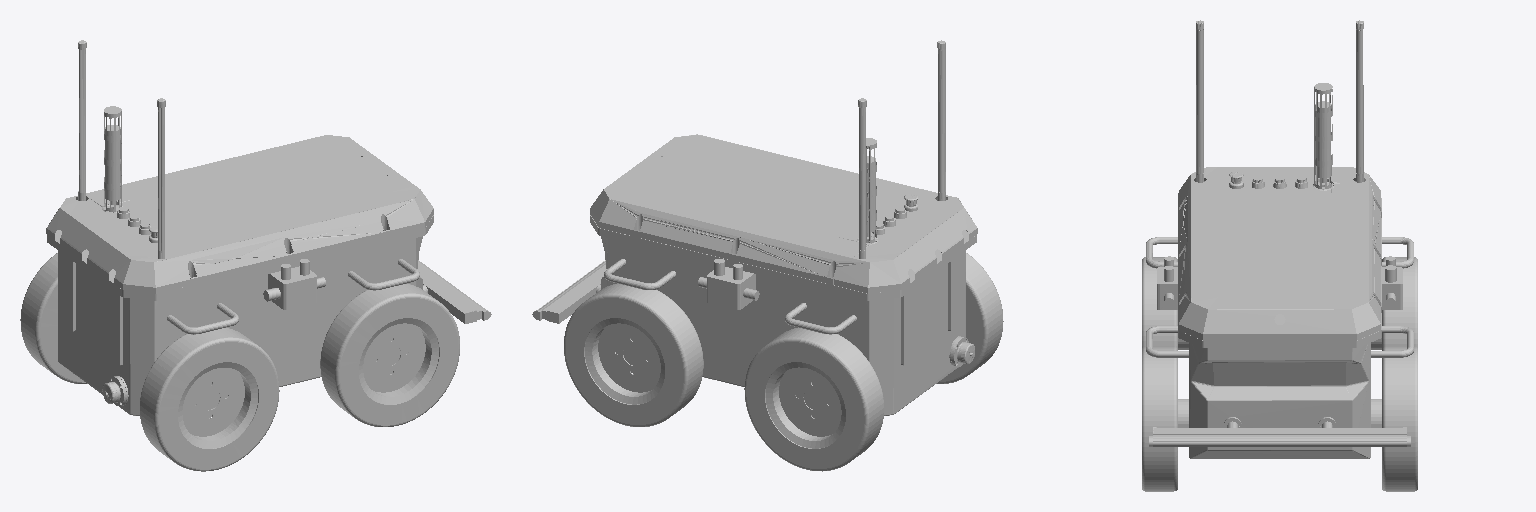
The robot description file, URDF, robot "yhs_chassis_description":
<robot name="yhs_chassis_description">
  <link name="base_link">
    <visual>
      <origin
        xyz="-0.6 -0.35 0"
        rpy="0 0 0" />
      <geometry>
        <mesh
          filename="package://yhs_chassis_description/meshes/FB-001.STL"/>
      </geometry>
      <material
        name="">
        <color
          rgba="0.8 0.8 0.8 1" />
      </material>
    </visual>
  </link>
</robot>

--- Render facts (derived) ---
The picture shows the robot from 3 angles, left to right: view 1: azimuth 30°, elevation 25°; view 2: azimuth 150°, elevation 25°; view 3: azimuth 270°, elevation 25°; orthographic projection.
Robot: yhs_chassis_description — 1 links, 0 joints (none); root link base_link; default pose: all joints at 0.
Visible links, largest first — view 1: base_link; view 2: base_link; view 3: base_link.
Link boxes in pixels (<box>): base_link: <box>20,40,491,471</box>; base_link: <box>532,40,1003,471</box>; base_link: <box>1142,20,1417,491</box>.
Bounding box of the posed robot: 1.12 × 0.762 × 1.09 m (x, y, z).
Meshes: 1 distinct files referenced, 1 mesh visuals loaded (1 binary STL).